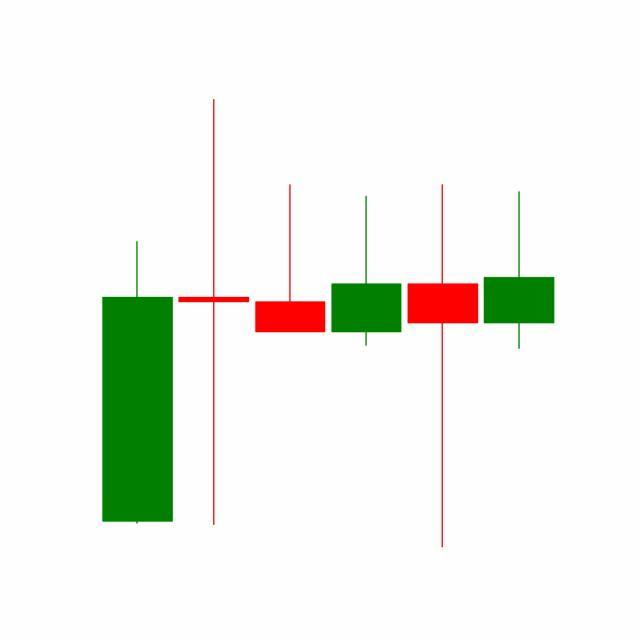Spinning Top: (404, 180, 482, 552)
